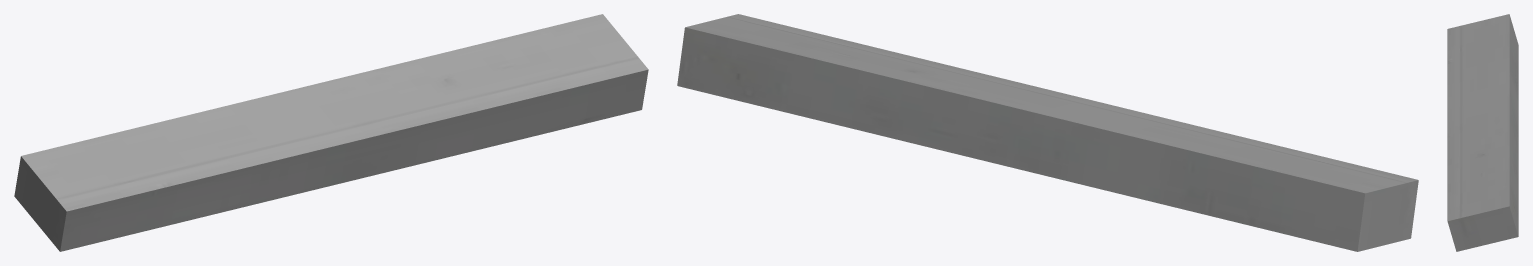
The model's file is cabinet__deck_skirt.glb.
The picture shows the model from 3 angles, left to right: view 1: azimuth 30°, elevation 25°; view 2: azimuth 150°, elevation 25°; view 3: azimuth 270°, elevation 25°; orthographic projection. The views are drawn at different scales.
Parts seen in each view (by area): view 1: geometry_0; view 2: geometry_0; view 3: geometry_0.
Part boxes in pixels (x1,y1,x2,y2): geometry_0: (14, 14, 648, 251); geometry_0: (677, 14, 1418, 251); geometry_0: (1447, 14, 1518, 251).
Size of the model in its own units: 0.78 by 0.0863 by 0.1217.
Materials: 1 (1 with a texture image).
